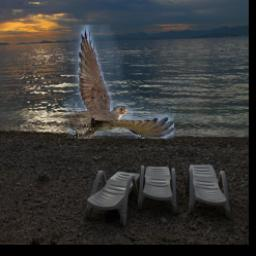Cuckoo: (54, 26, 174, 140)
